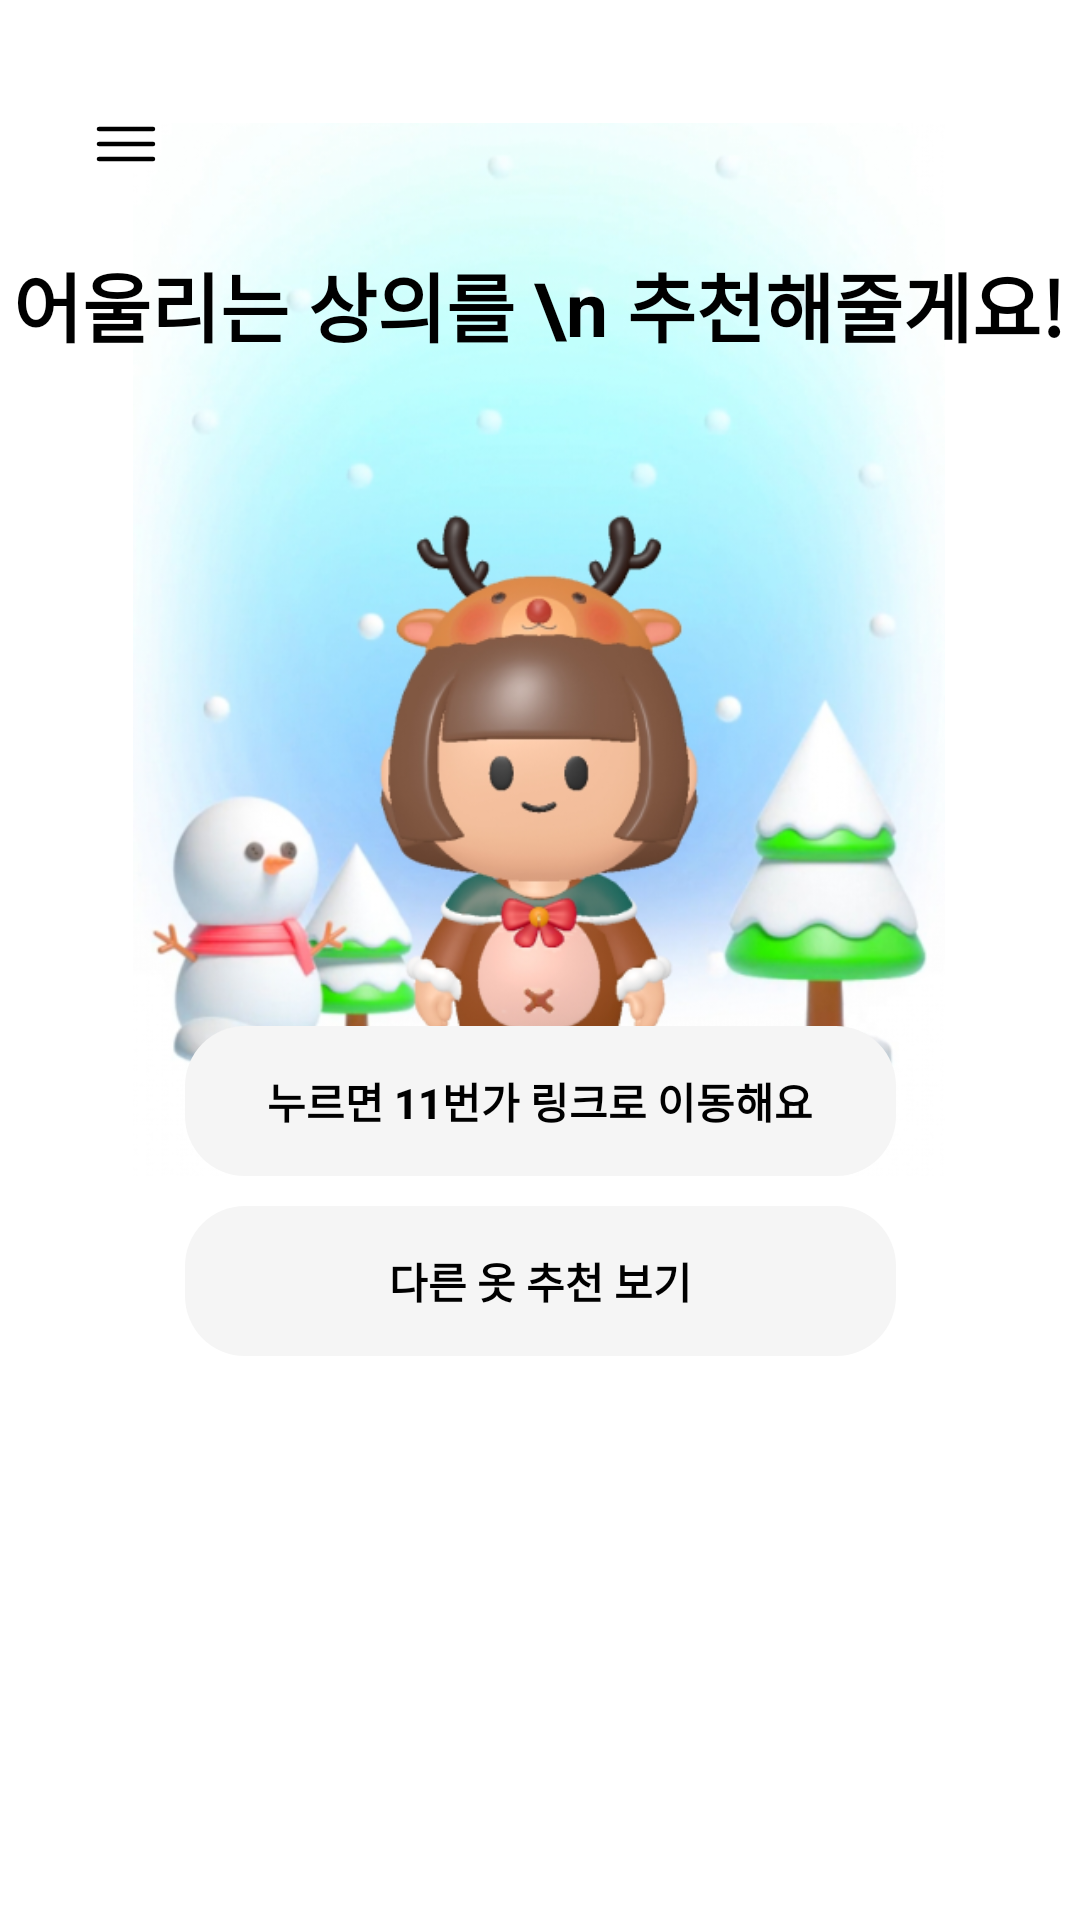

Screen size 1080px×1920px. Icon name, then its box in pixels as bbox=[x1, y1, x2, y2]:
hamburger menu: bbox=[96, 126, 155, 162]
